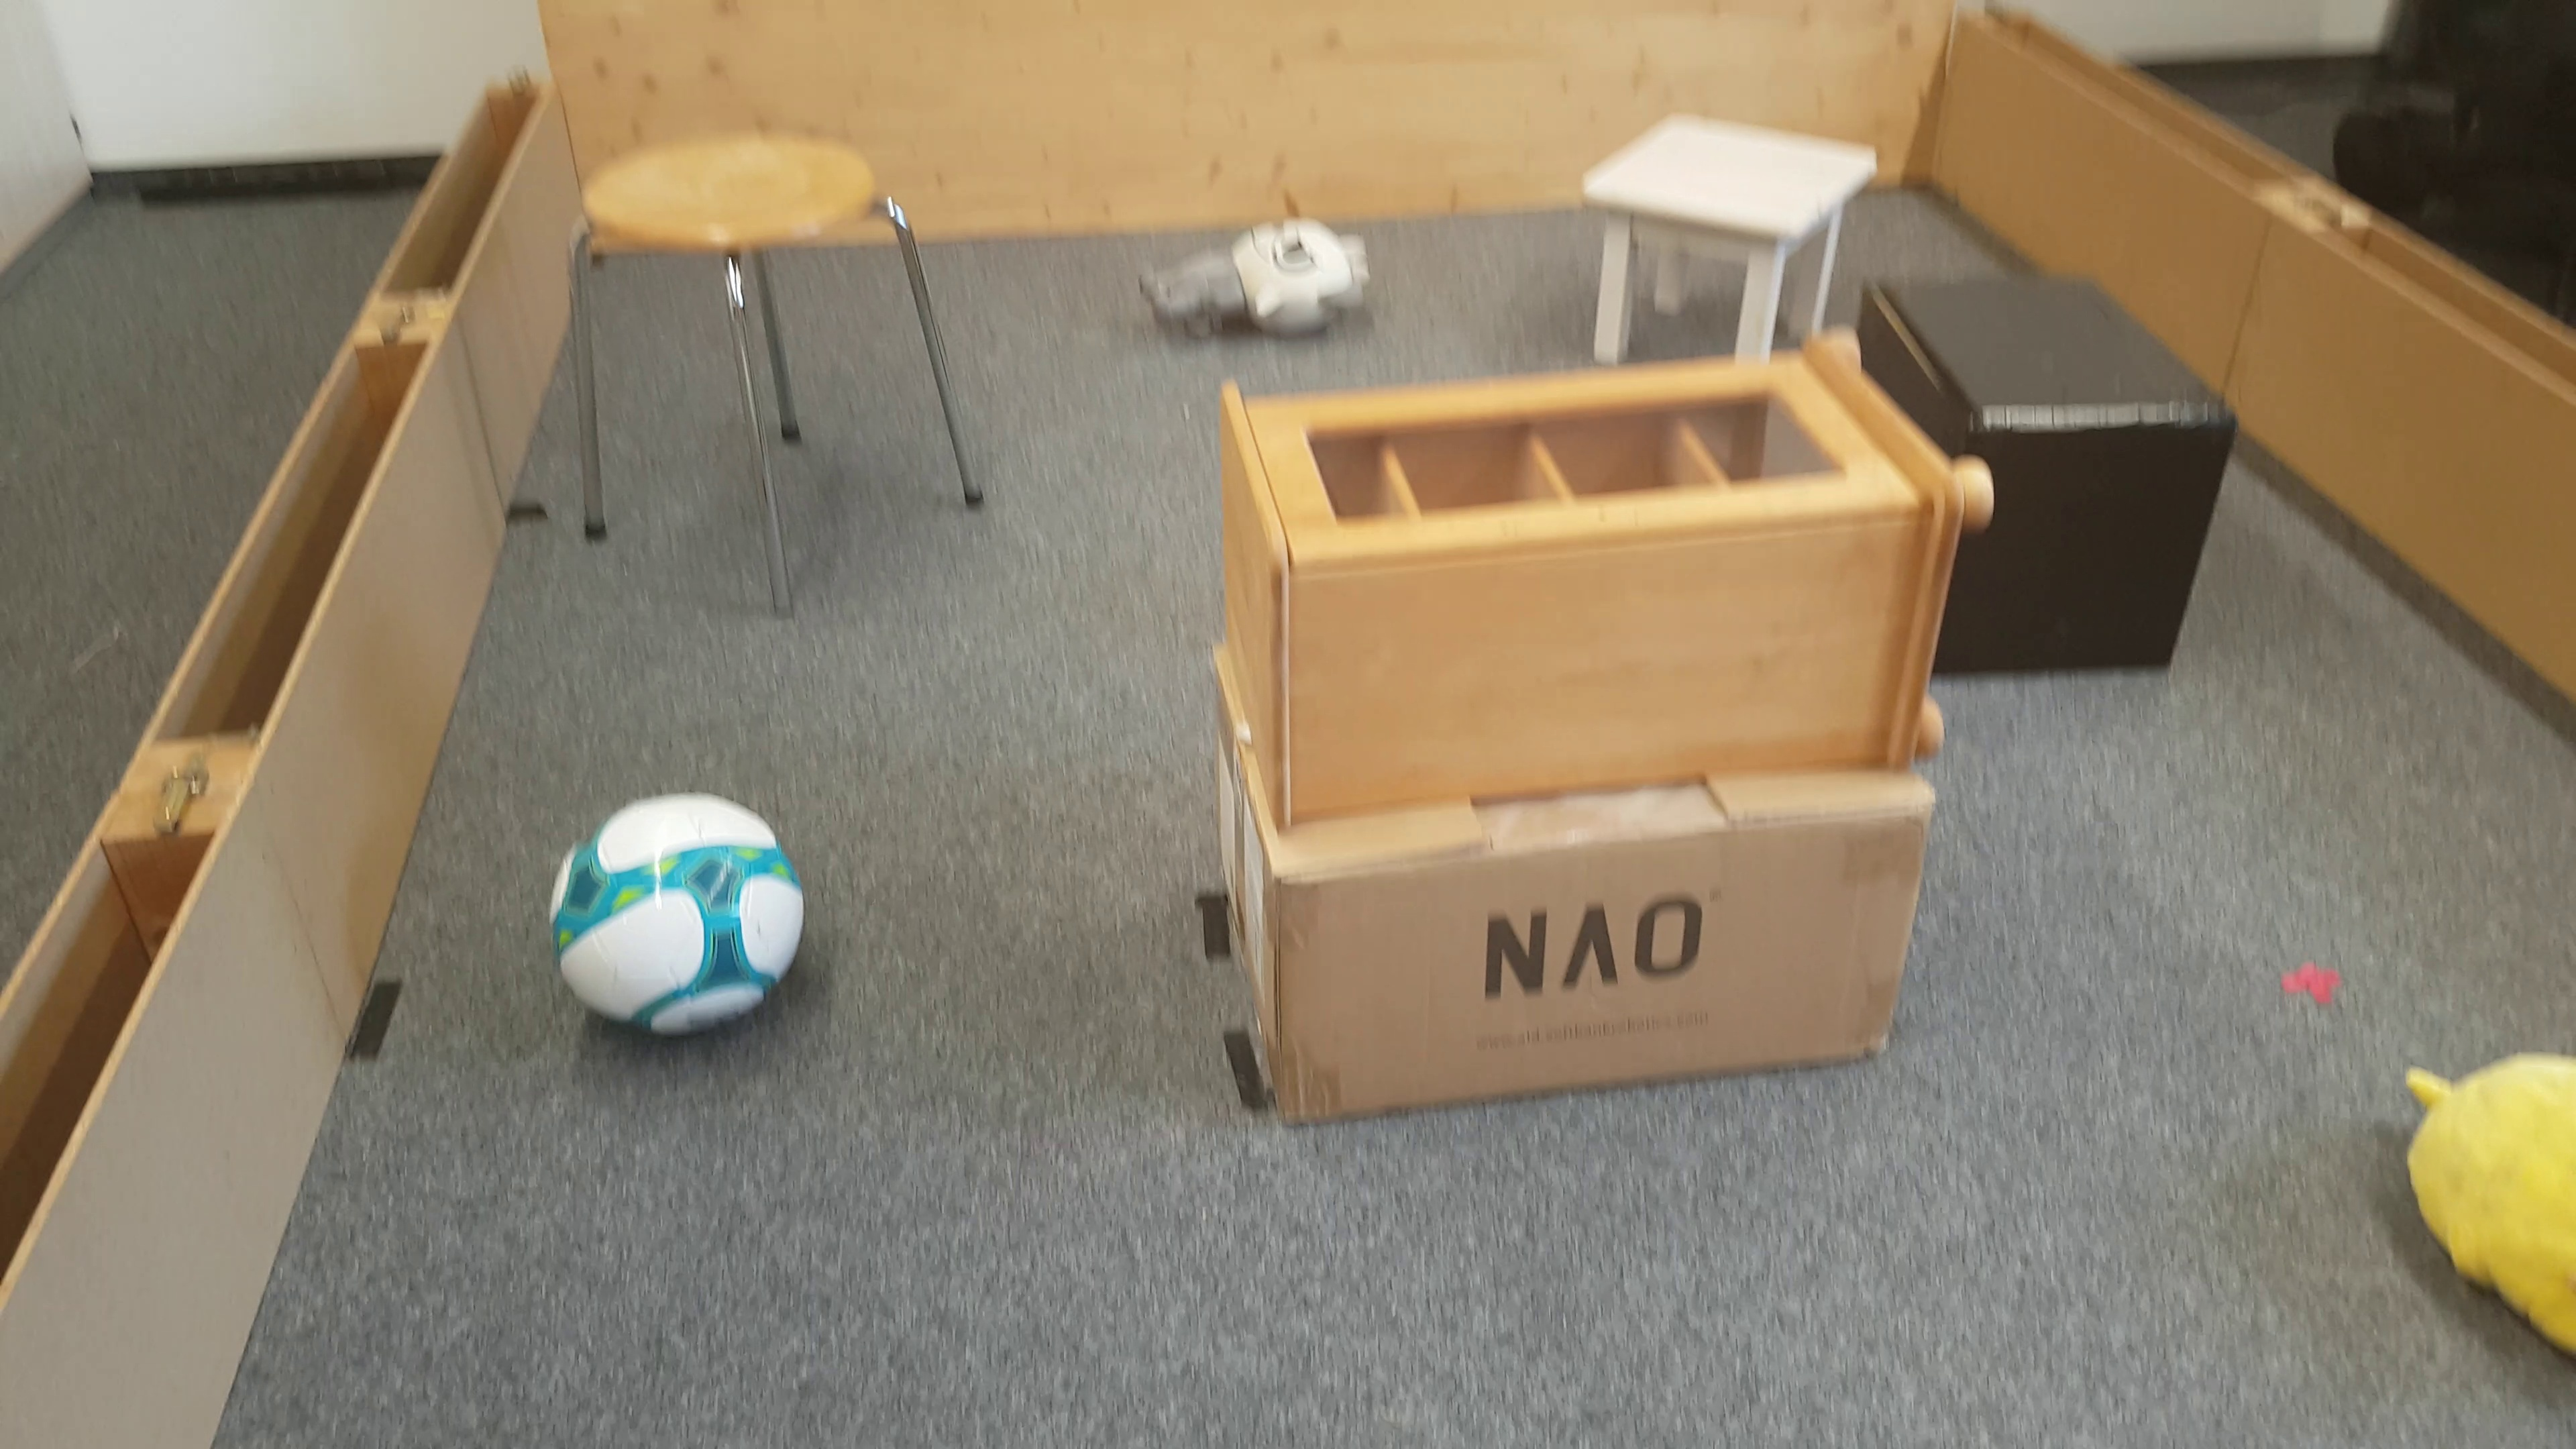grasp: (2396, 1053, 2576, 1361), (1134, 218, 1375, 352)
kick: (552, 789, 810, 1040)
push: (1997, 285, 2245, 685)
